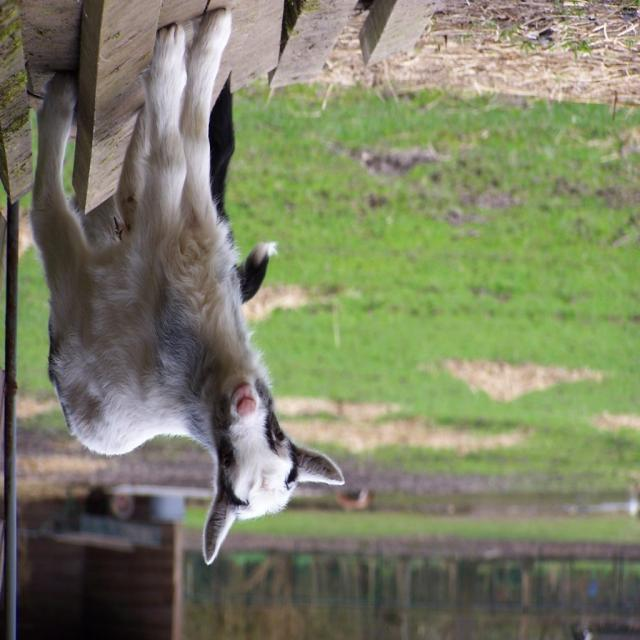Goat: (29, 9, 345, 567)
